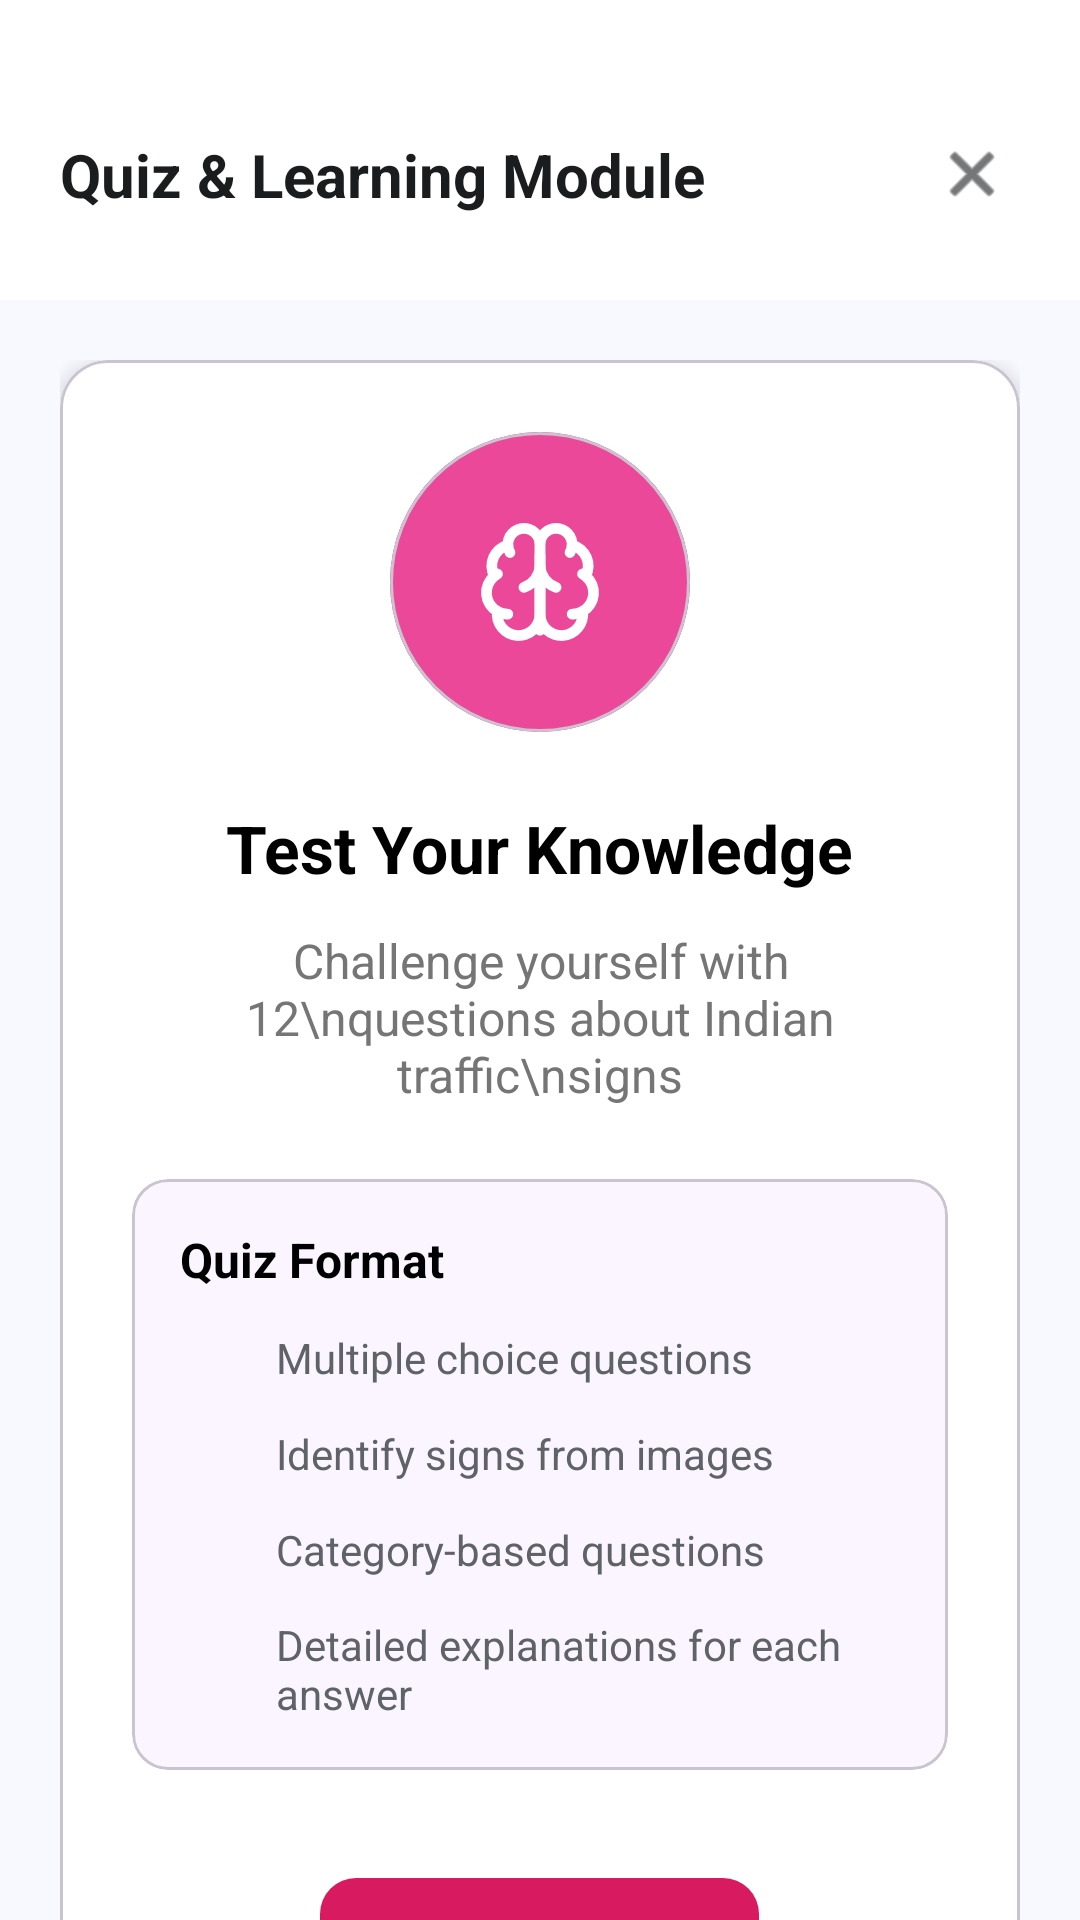

Screen size 1080px x 1920px. Icon name, then its box in pixels as (x1, y1, x2, y2):
close clear cancel: (949, 151, 995, 197)
